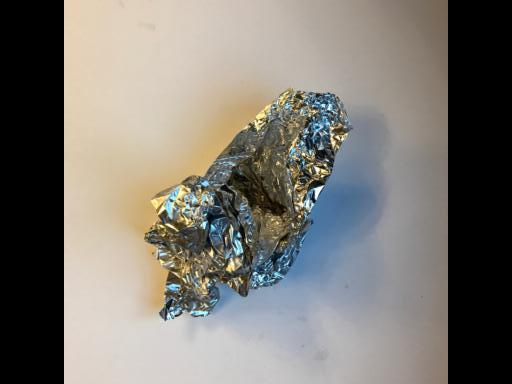metal: (141, 86, 352, 324)
